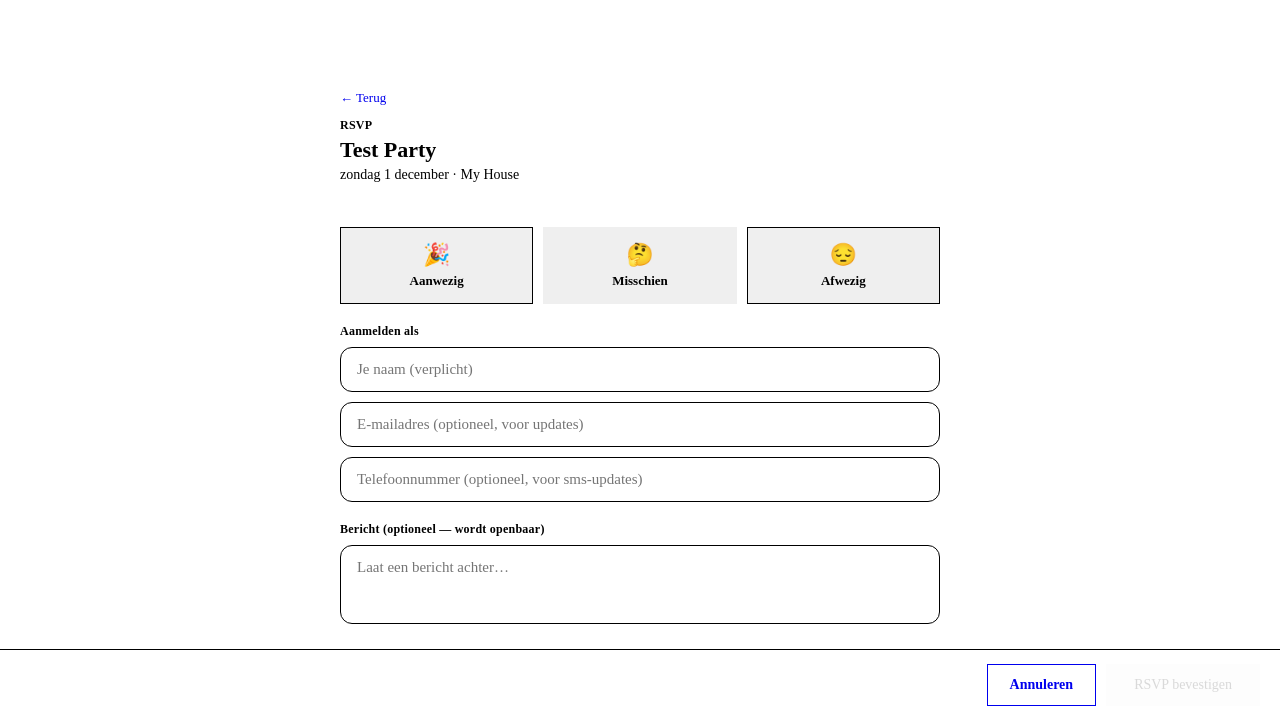
Test: RSVP localization › submits canonical RSVP values from a Dutch form
Step 1. Type "Sanne" into the field with placeholder "Je naam (verplicht)" → (640, 370), box top-left (340, 347), bottom-right (940, 392)
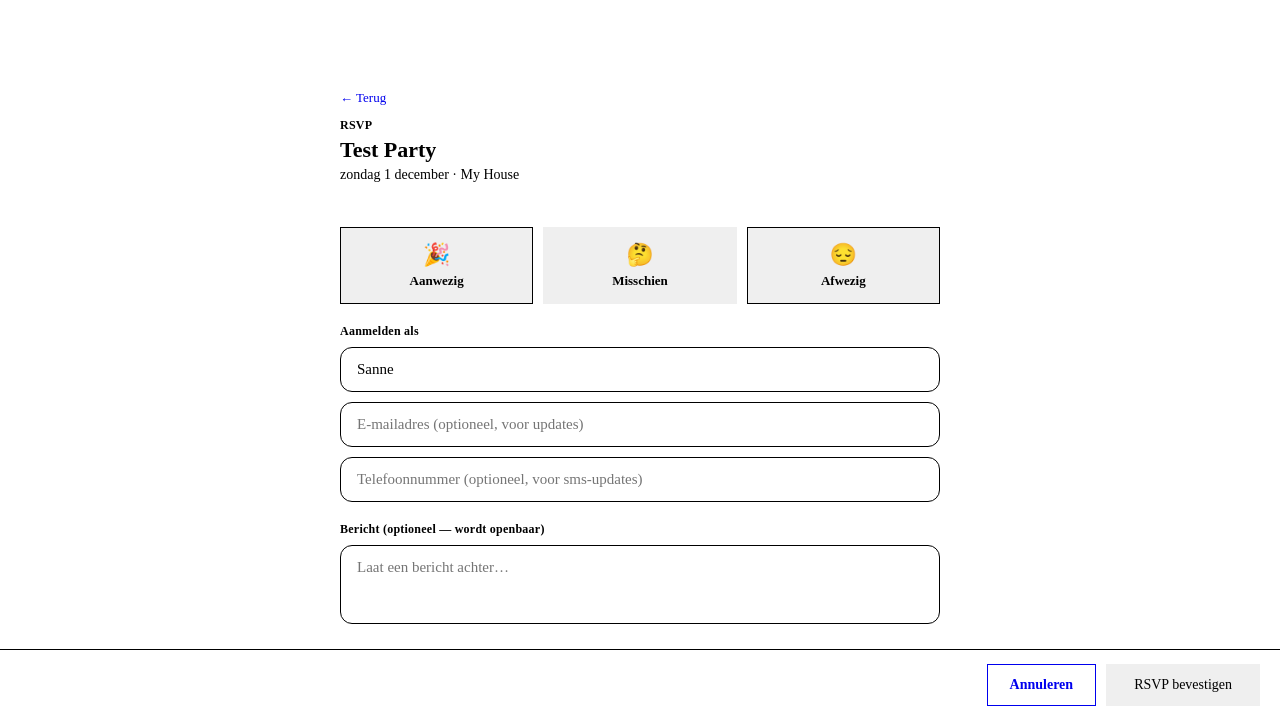
Step 2. Click the button "RSVP bevestigen" → (1183, 685), box top-left (1106, 664), bottom-right (1260, 706)
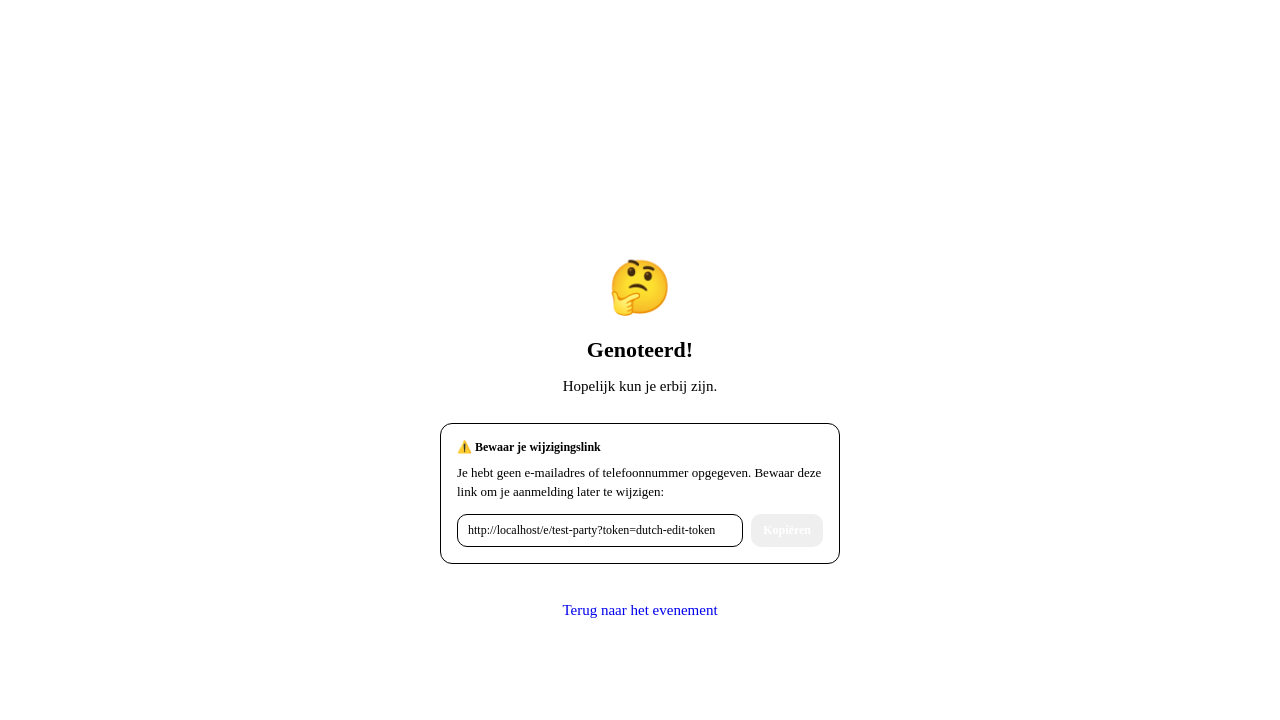
expect the heading "Genoteerd!" is shown: met, box top-left (587, 337), bottom-right (693, 362)
